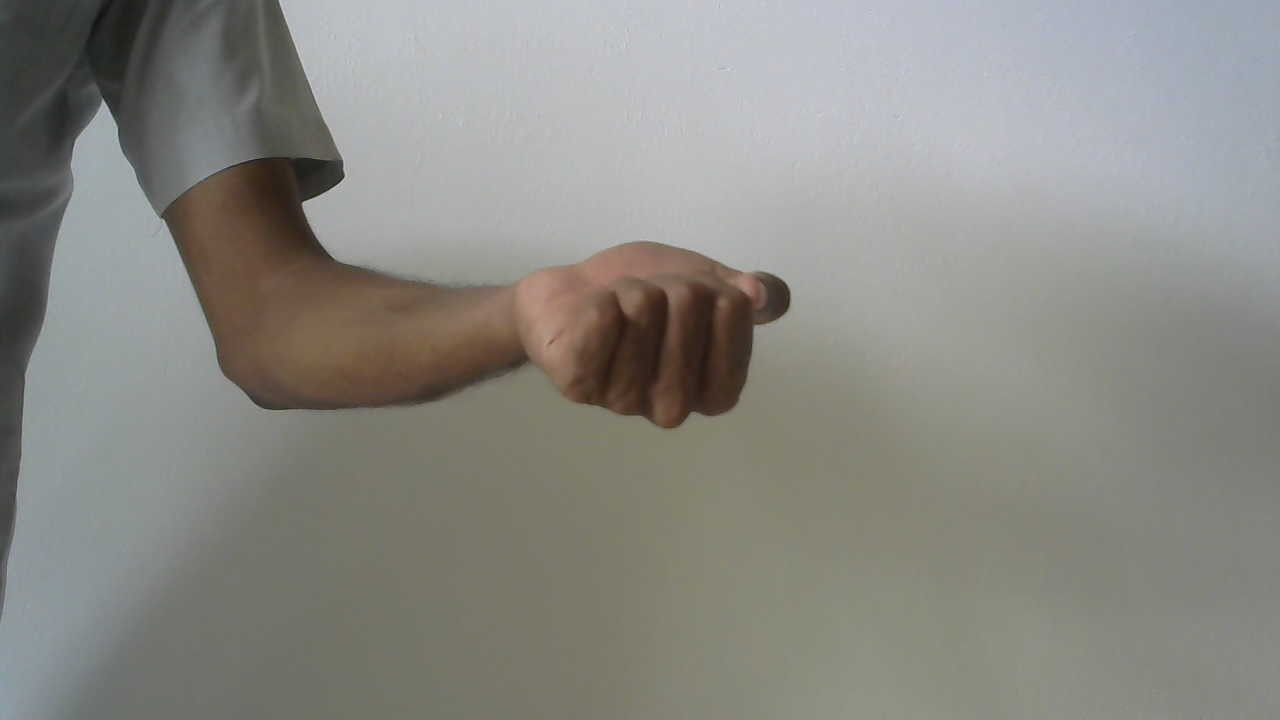yes: (482, 195, 812, 451)
